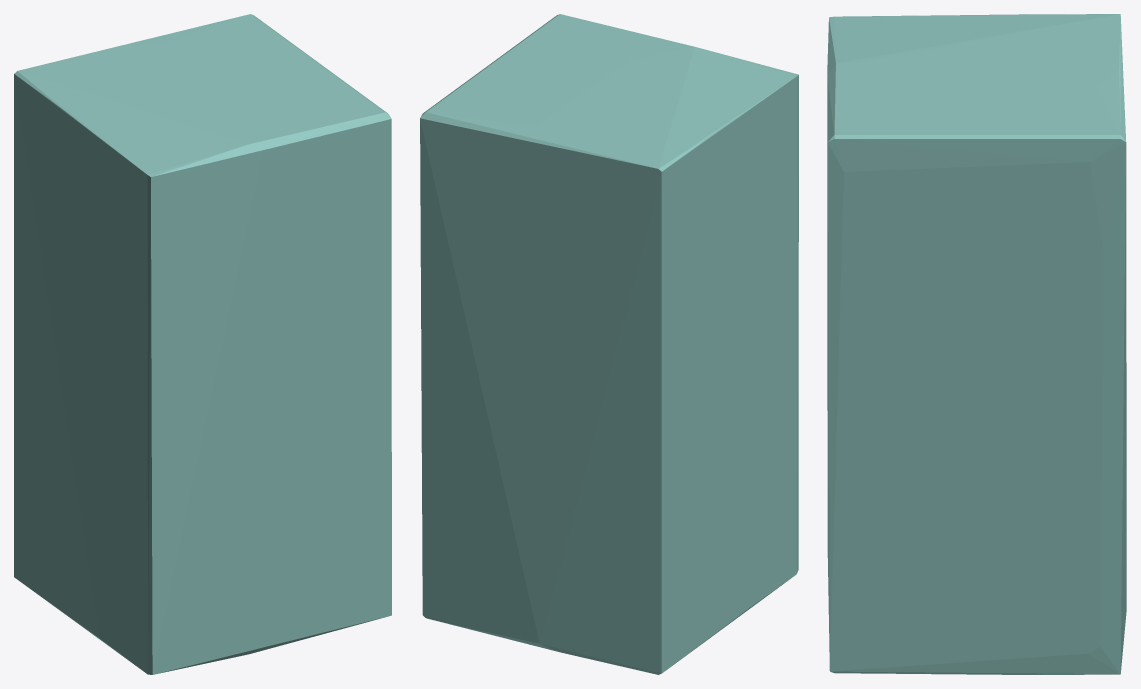
File: box_multiDepth_a04.glb
3 renders of one model, left to right at view 1: azimuth 30°, elevation 25°; view 2: azimuth 150°, elevation 25°; view 3: azimuth 270°, elevation 25°, orthographic. The views are drawn at different scales.
Visible parts, largest first — view 1: geometry_0; view 2: geometry_0; view 3: geometry_0.
Boxes of the visible parts, left/top/right/bottom form: geometry_0: left=14, top=14, right=391, bottom=674; geometry_0: left=420, top=14, right=798, bottom=674; geometry_0: left=827, top=14, right=1126, bottom=674.
Size of the model in its own units: 0.2387 by 0.48 by 0.2406.
